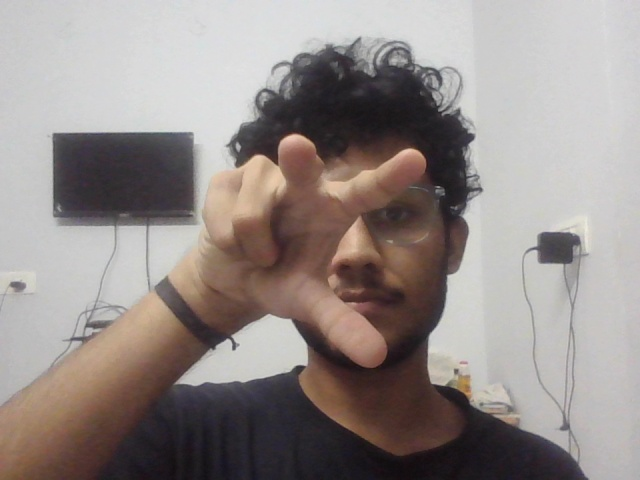No: (195, 127, 432, 383)
